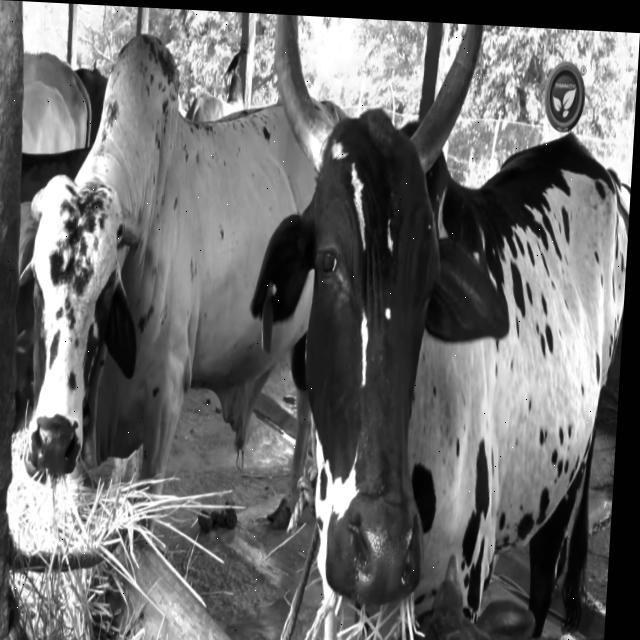Cow: (218, 62, 510, 640), (0, 133, 160, 529)
